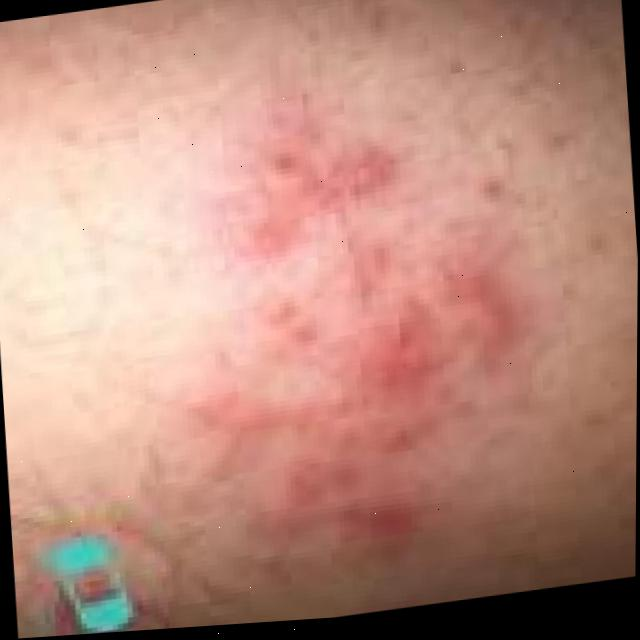Shingles: (210, 131, 521, 551)
